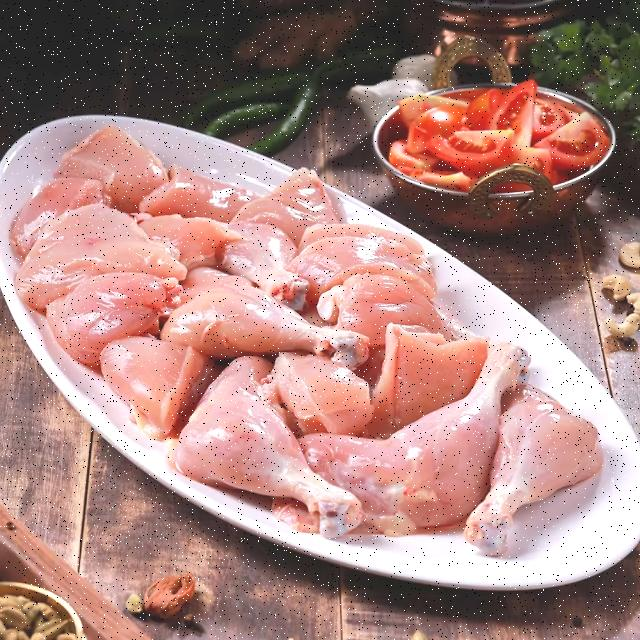Chicken: (72, 205, 511, 574)
